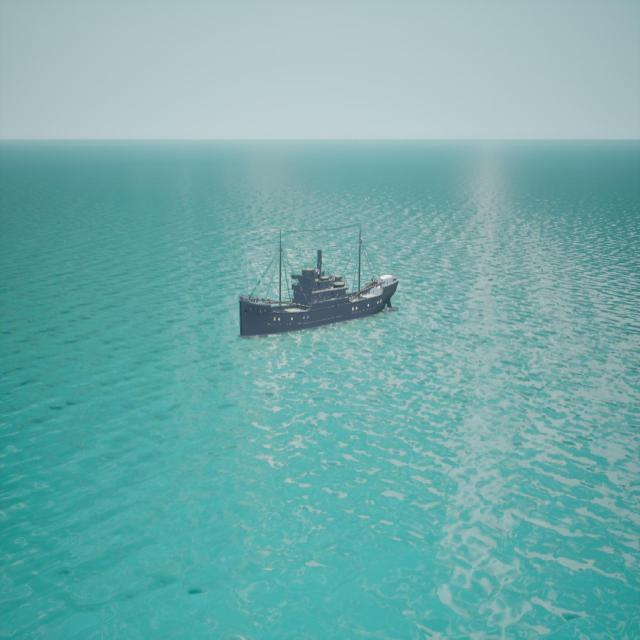fishing ship: (238, 235, 401, 341)
